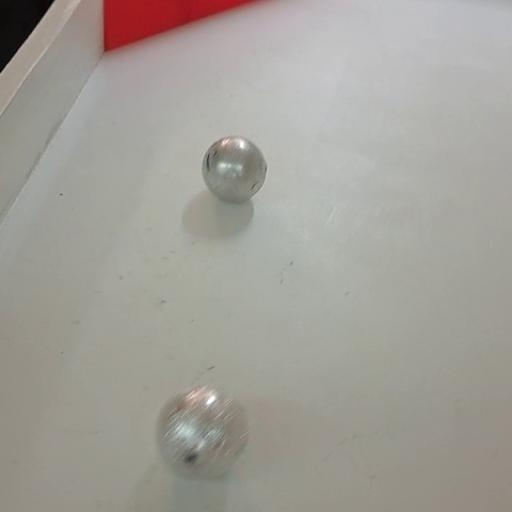alive: (156, 382, 252, 478), (198, 134, 270, 208)
